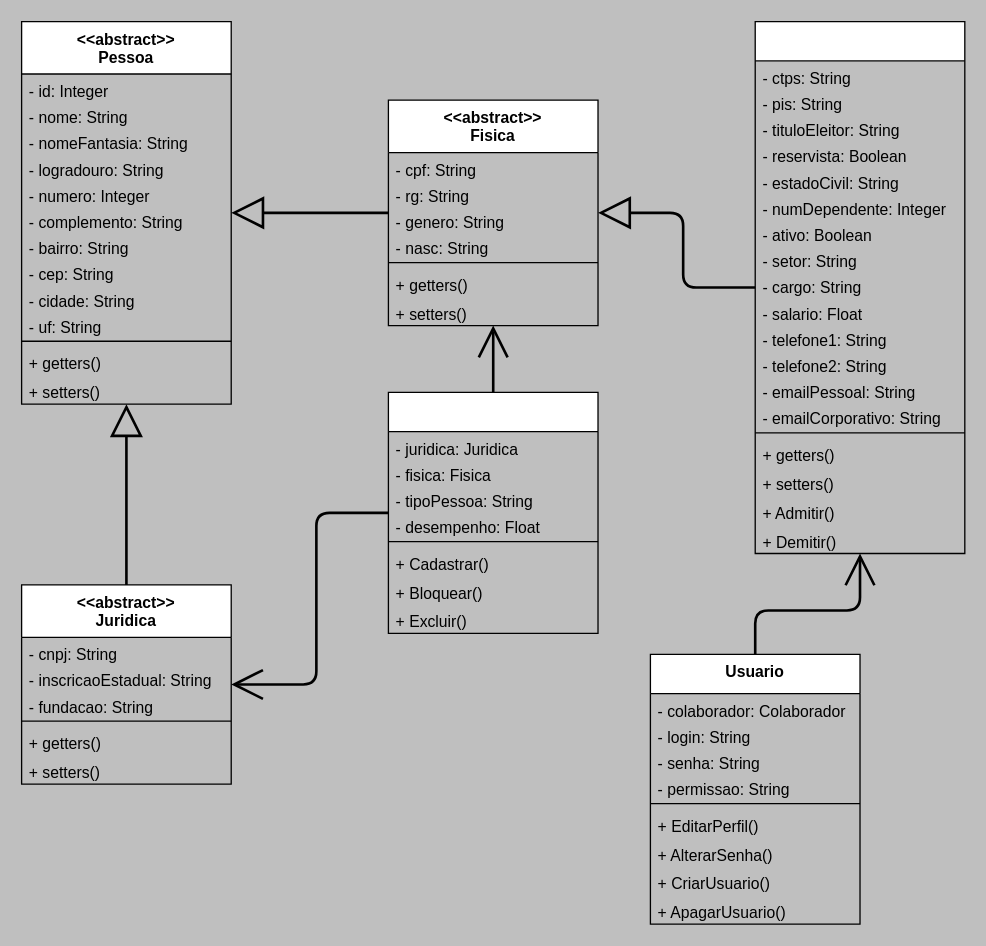
Some shapes in this 986 by 946 pixel diagram are drawn without their labels. The box of each missing label's shape, as (x1, y1, x2, y2) in pixels:
Colaborador: (754, 20, 965, 553)
Parceiro: (387, 391, 598, 633)
